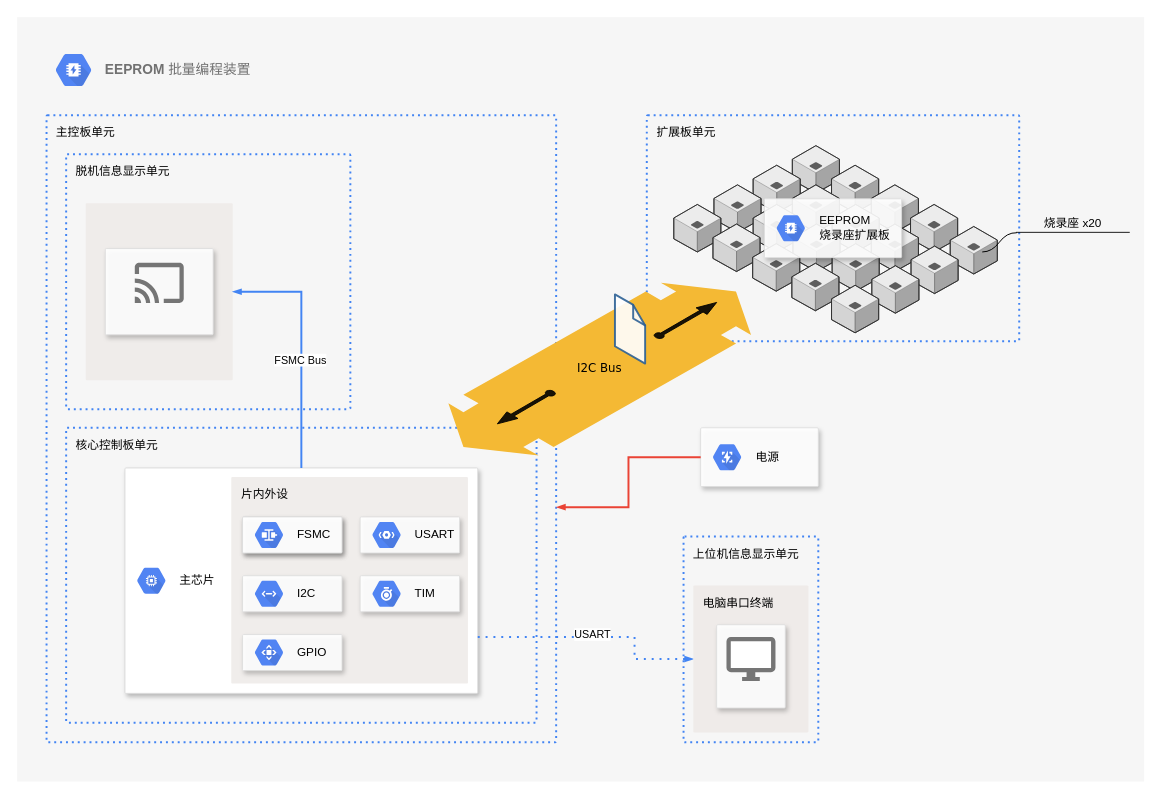
Image size: 1160x798. Some labels were removed from this diagram. The shapes that lost their labels are listed below. From the top down, each one's centre as x and y in pixels, then its label:
At pixel 159 293: "LCD 显示屏".
At pixel 751 667: "PC".
